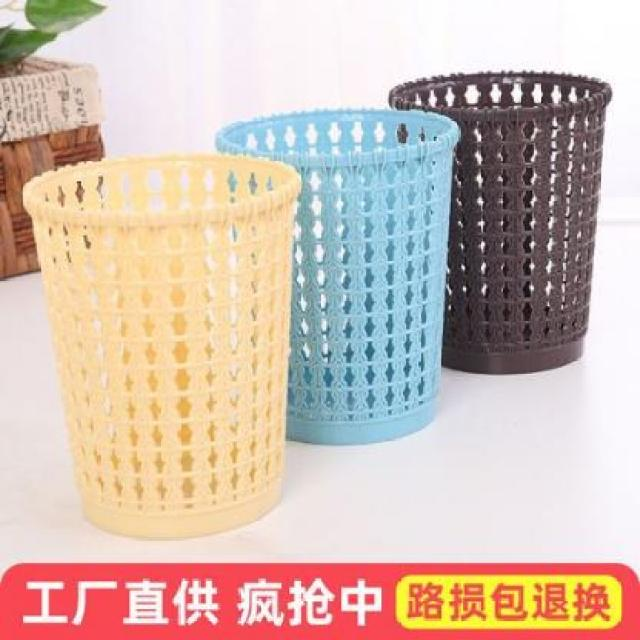dustbin: (20, 149, 303, 545), (211, 103, 464, 449), (384, 66, 614, 379)
